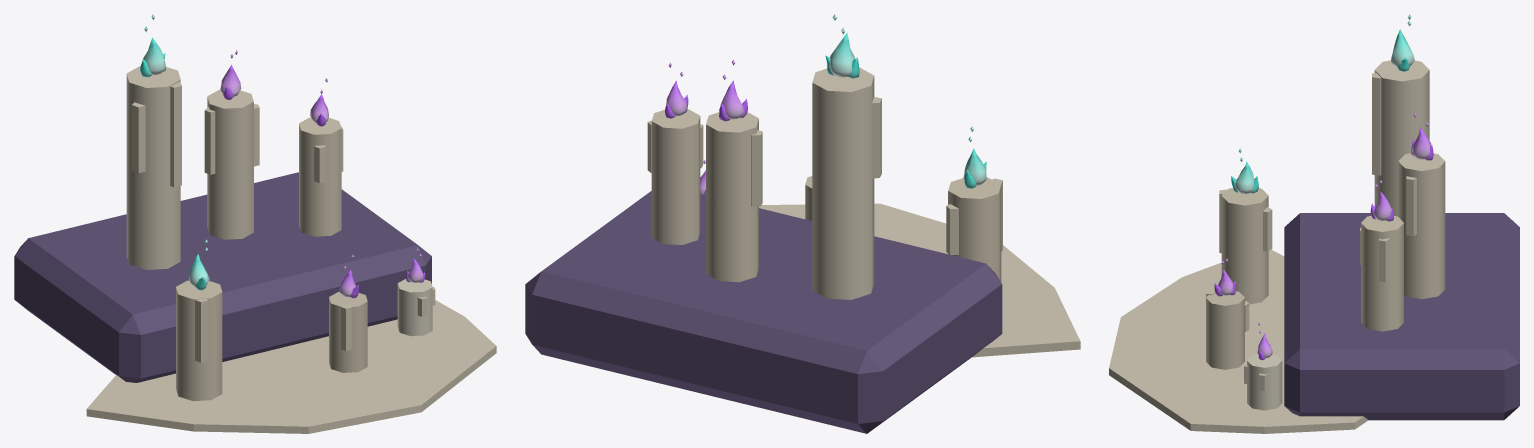
The model's file is decor_3.fbx.
3 renders of one model, left to right at view 1: azimuth 30°, elevation 25°; view 2: azimuth 150°, elevation 25°; view 3: azimuth 270°, elevation 25°, orthographic. The views are drawn at different scales.
Visible parts, largest first — view 1: decor_3; view 2: decor_3; view 3: decor_3.
Boxes of the visible parts, <box> form: decor_3: <box>14,14,496,433</box>; decor_3: <box>525,14,1080,433</box>; decor_3: <box>1109,14,1519,433</box>.
Bounding box in the file's own units: 1.09 × 0.8618 × 1.05.
